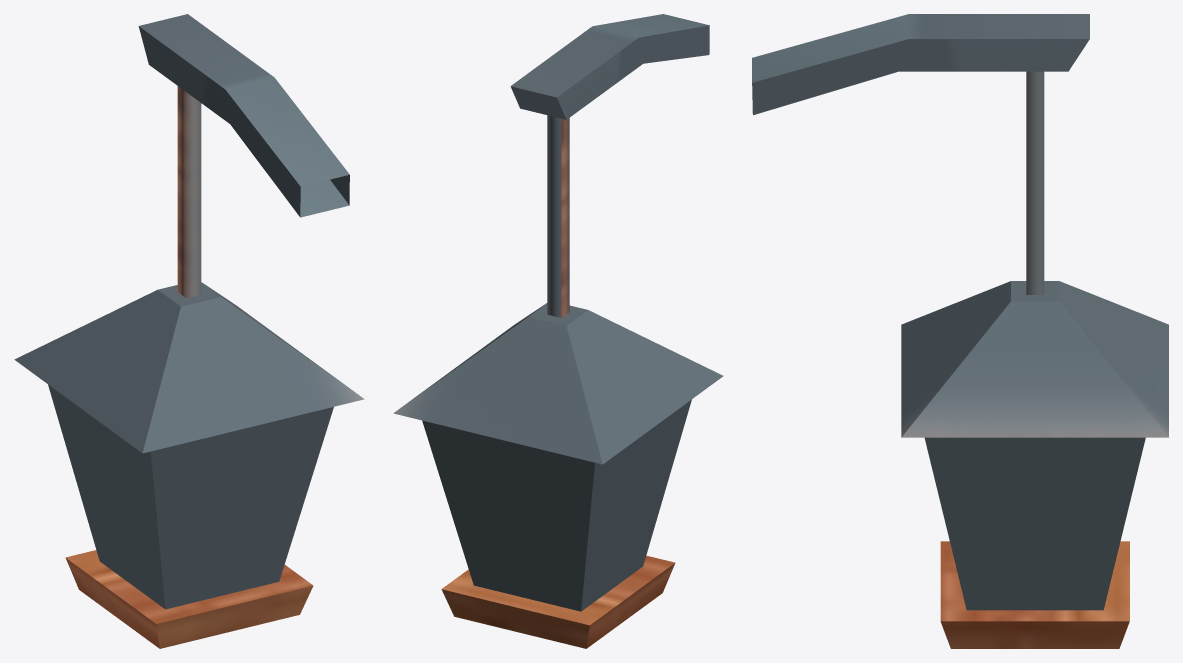
Rendered from light.fbx.
3 views of the same model, side by side, from view 1: azimuth 30°, elevation 25°; view 2: azimuth 150°, elevation 25°; view 3: azimuth 270°, elevation 25° (orthographic). The views are drawn at different scales.
Parts seen in each view (by area): view 1: light; view 2: light; view 3: light.
Boxes of the visible parts, x1,y1,x2,y2 form: light: (14,14,364,648); light: (393,14,723,648); light: (752,14,1168,648).
Bounding box in the file's own units: 1.3 × 3.14 × 2.02.
